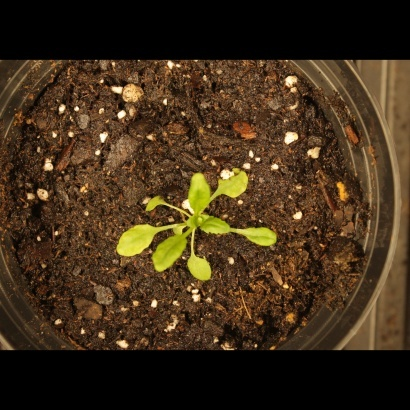leaf: (109, 221, 160, 258), (150, 233, 190, 275), (245, 218, 284, 253), (218, 167, 254, 203), (187, 167, 211, 216), (186, 252, 219, 287), (139, 188, 167, 216), (198, 213, 230, 236)
